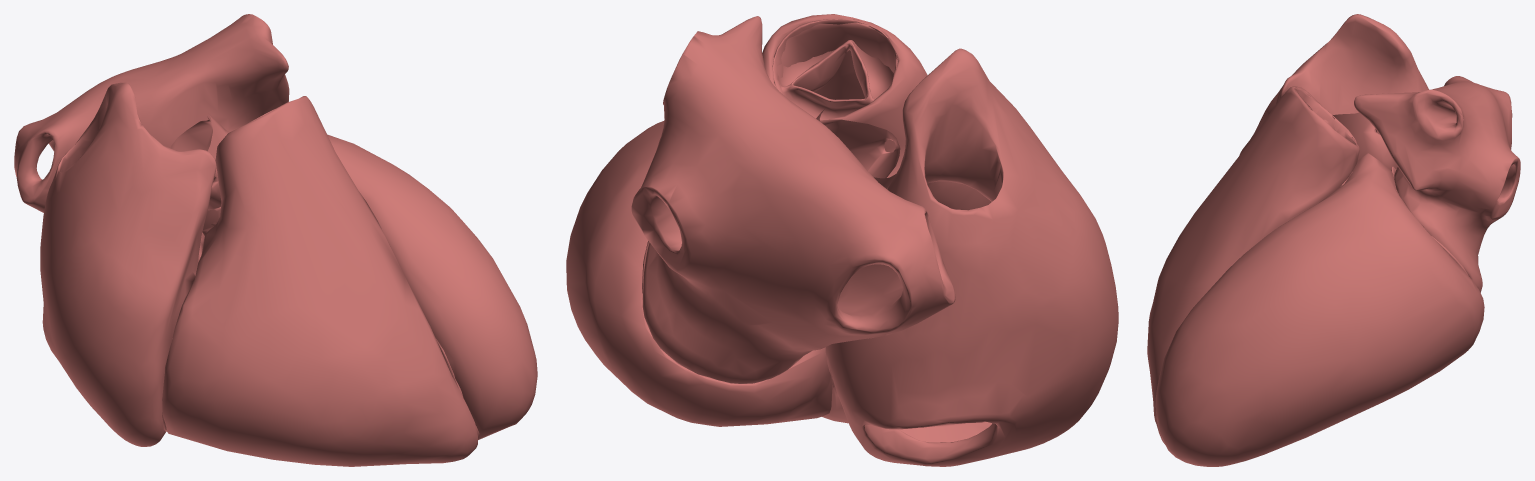
The model's file is heart.glb.
3 views of the same model, side by side, from view 1: azimuth 30°, elevation 25°; view 2: azimuth 150°, elevation 25°; view 3: azimuth 270°, elevation 25° (orthographic). The views are drawn at different scales.
Parts seen in each view (by area): view 1: VH_M_heart_right_ventricle, VH_M_right_cardiac_atrium, VH_M_heart_left_ventricle, VH_M_left_cardiac_atrium, VH_M_aortic_valve; view 2: VH_M_left_cardiac_atrium, VH_M_right_cardiac_atrium, VH_M_heart_left_ventricle, VH_M_heart_right_ventricle, VH_M_pulmonary_valve, VH_M_aortic_valve; view 3: VH_M_heart_left_ventricle, VH_M_heart_right_ventricle, VH_M_left_cardiac_atrium, VH_M_right_cardiac_atrium, VH_M_aortic_valve.
Part boxes in pixels (box(x1,y1,x2,y2)): VH_M_heart_right_ventricle: box(162, 96, 477, 466); VH_M_right_cardiac_atrium: box(40, 82, 216, 446); VH_M_heart_left_ventricle: box(203, 134, 537, 439); VH_M_left_cardiac_atrium: box(14, 14, 289, 212); VH_M_aortic_valve: box(170, 113, 229, 210); VH_M_left_cardiac_atrium: box(631, 16, 955, 383); VH_M_right_cardiac_atrium: box(825, 48, 1118, 466); VH_M_heart_left_ventricle: box(566, 121, 832, 426); VH_M_heart_right_ventricle: box(762, 14, 927, 423); VH_M_pulmonary_valve: box(772, 19, 897, 120); VH_M_aortic_valve: box(816, 109, 900, 188); VH_M_heart_left_ventricle: box(1155, 153, 1484, 466); VH_M_heart_right_ventricle: box(1147, 86, 1359, 444); VH_M_left_cardiac_atrium: box(1354, 76, 1520, 292); VH_M_right_cardiac_atrium: box(1239, 14, 1428, 155); VH_M_aortic_valve: box(1333, 112, 1397, 169).
Bounding box in the file's own units: 0.1243 × 0.1053 × 0.1051.
